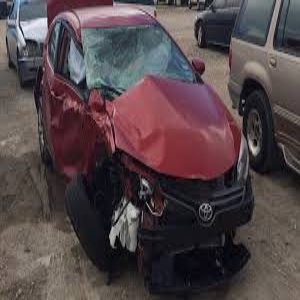bonnet: (115, 82, 234, 177)
bumper: (113, 208, 262, 297)
front_windshield_glass: (80, 28, 188, 81)
